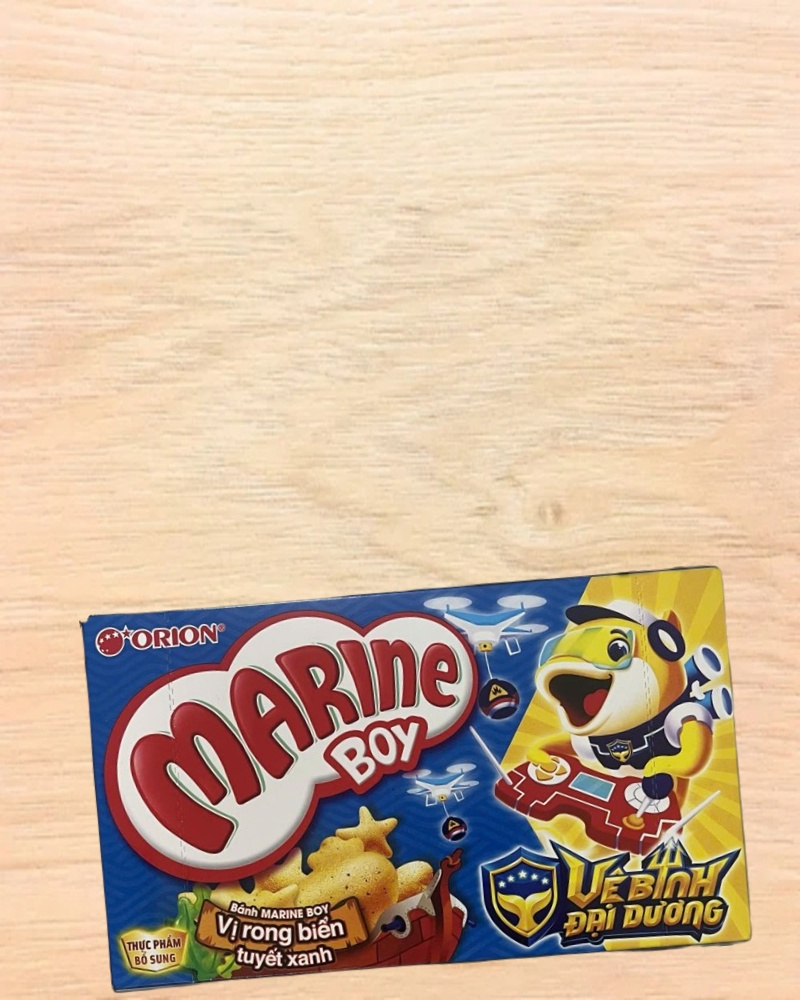Marine: (82, 561, 756, 998)
